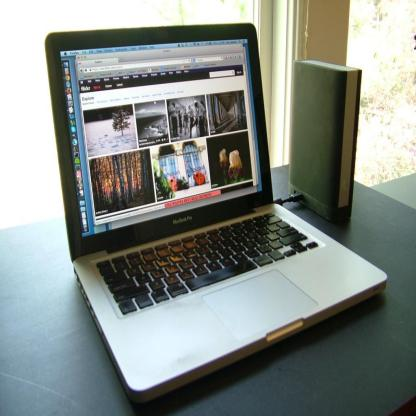board: (44, 22, 385, 405)
